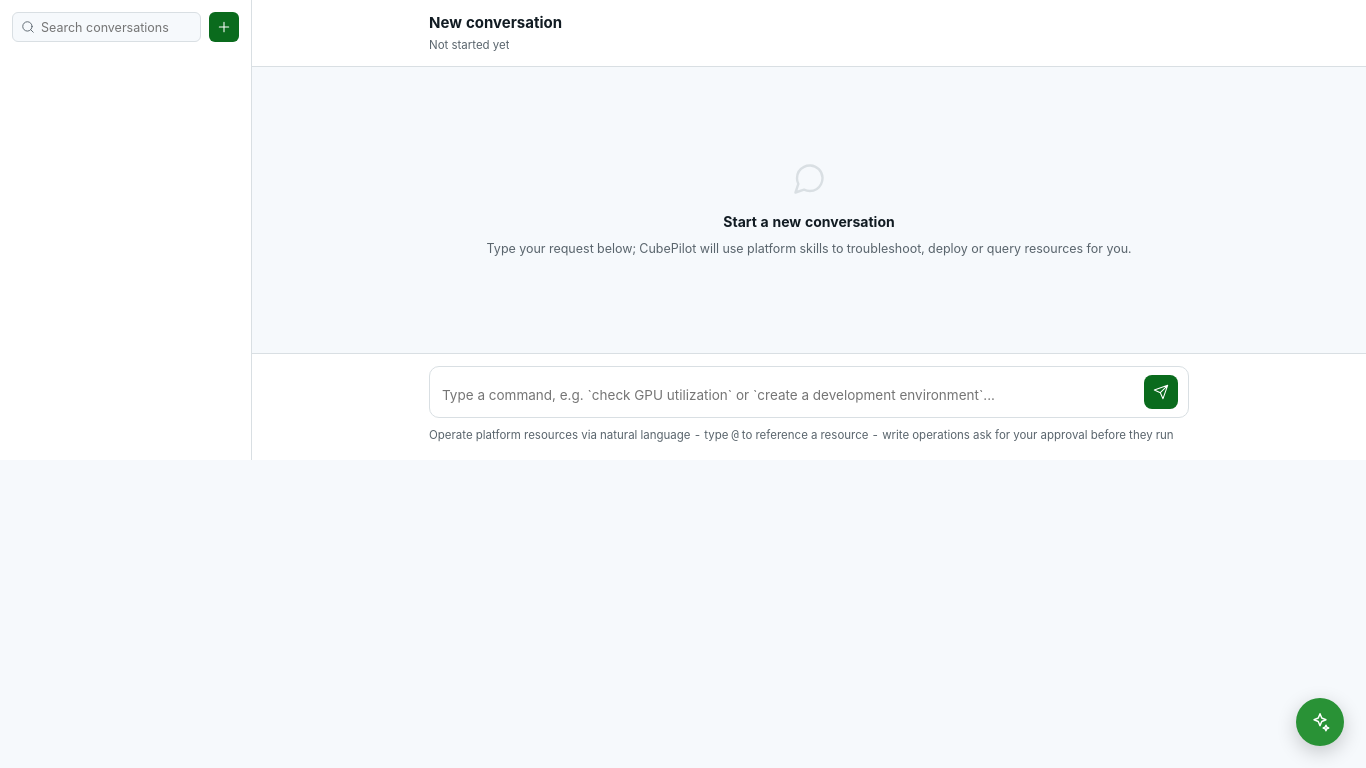
Test: a conversation created in the widget › reaches the Chat view’s session list without a route change
Click the button named "Open the assistant" at (1320, 722), box 1296,698 -> 1344,746
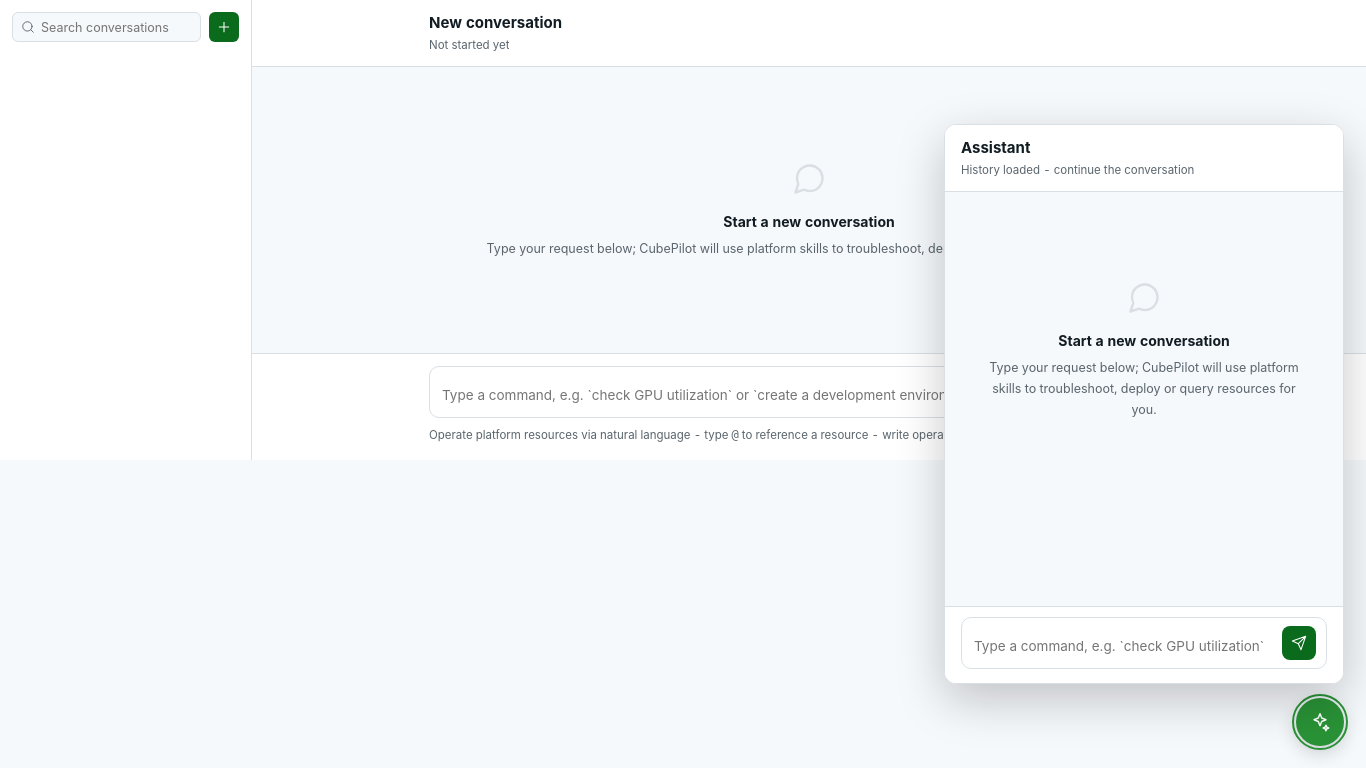
Type "hello" into the text box named "Message input" at (1122, 646), box 972,632 -> 1272,660
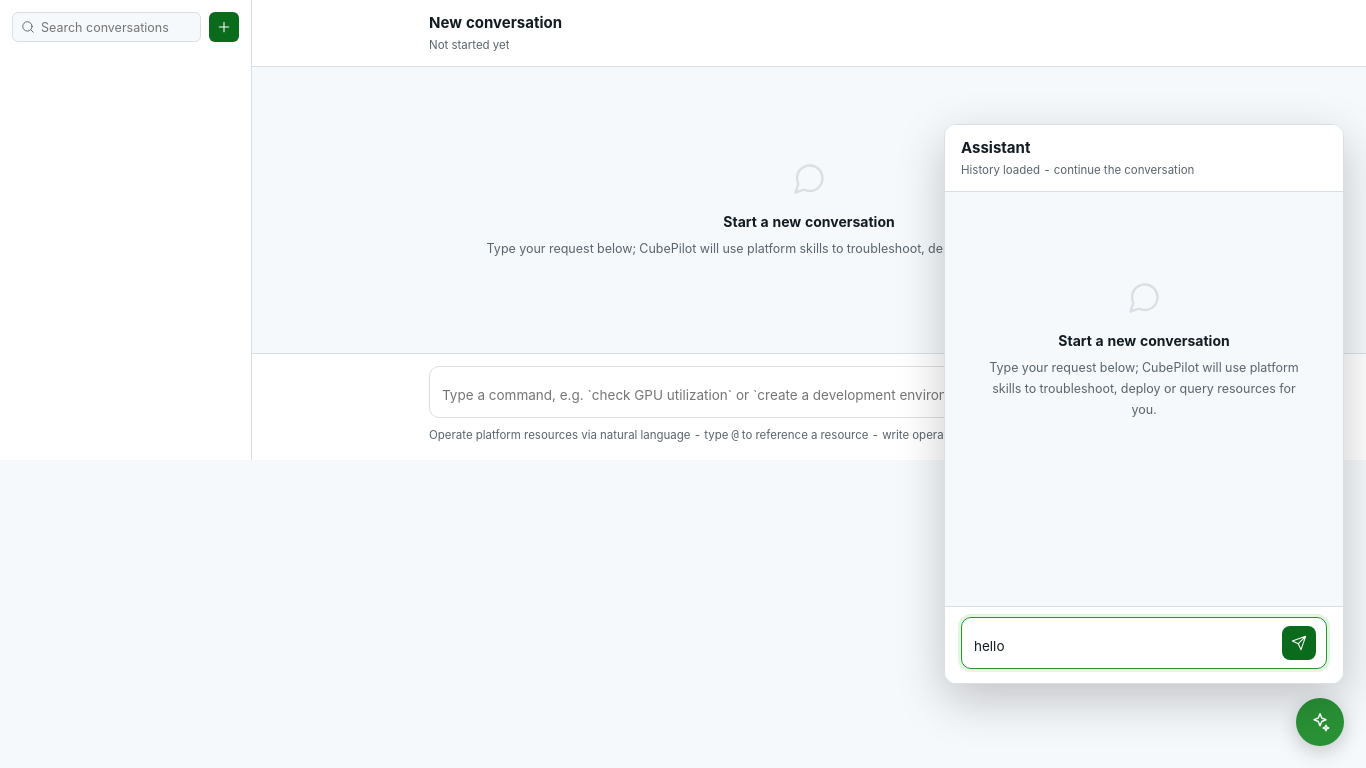
Click the button named "Send" at (1299, 643), box 1282,626 -> 1316,660
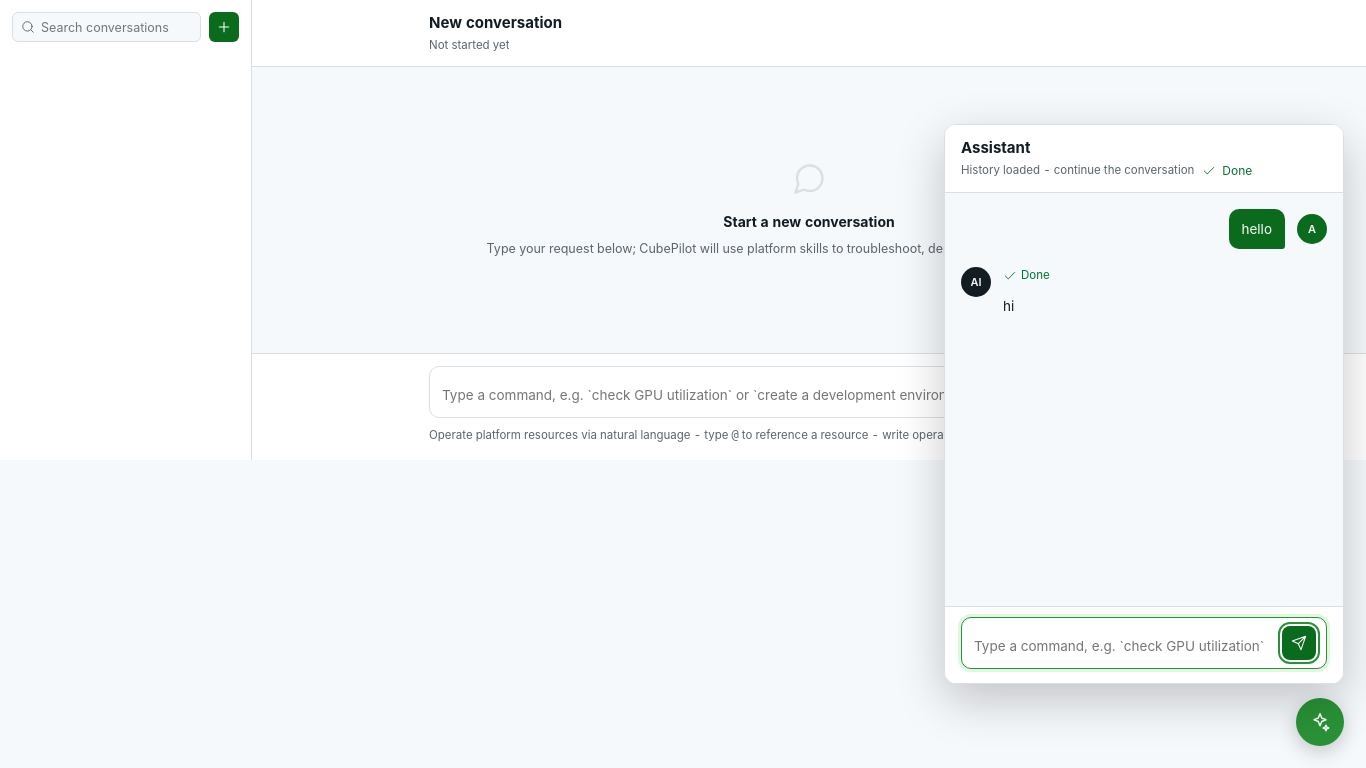
Now the text "hello" is shown, box 1242,218 -> 1272,240
